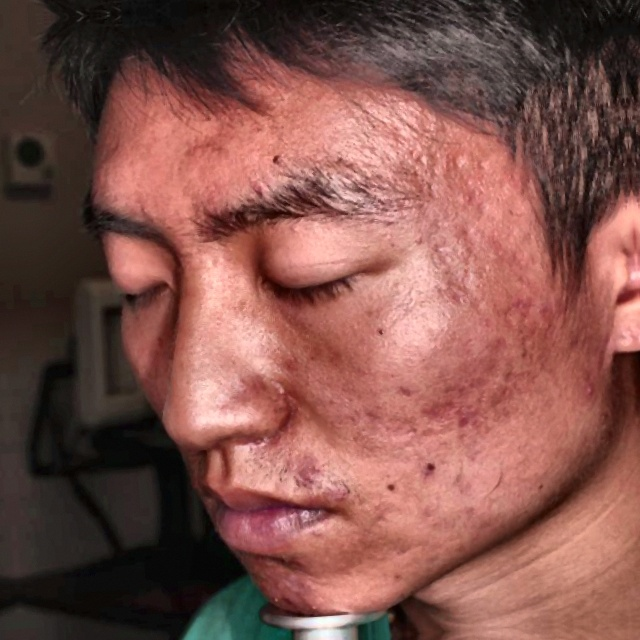comedone: (448, 410, 475, 440), (266, 588, 290, 613), (582, 378, 600, 408), (304, 597, 327, 613)
